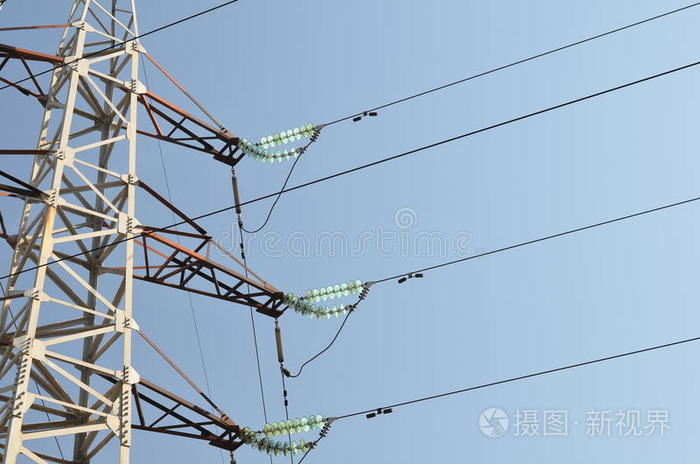insulator: (240, 425, 308, 456), (283, 292, 350, 319), (236, 137, 296, 161), (267, 413, 323, 437), (257, 123, 312, 146), (308, 279, 364, 299)
